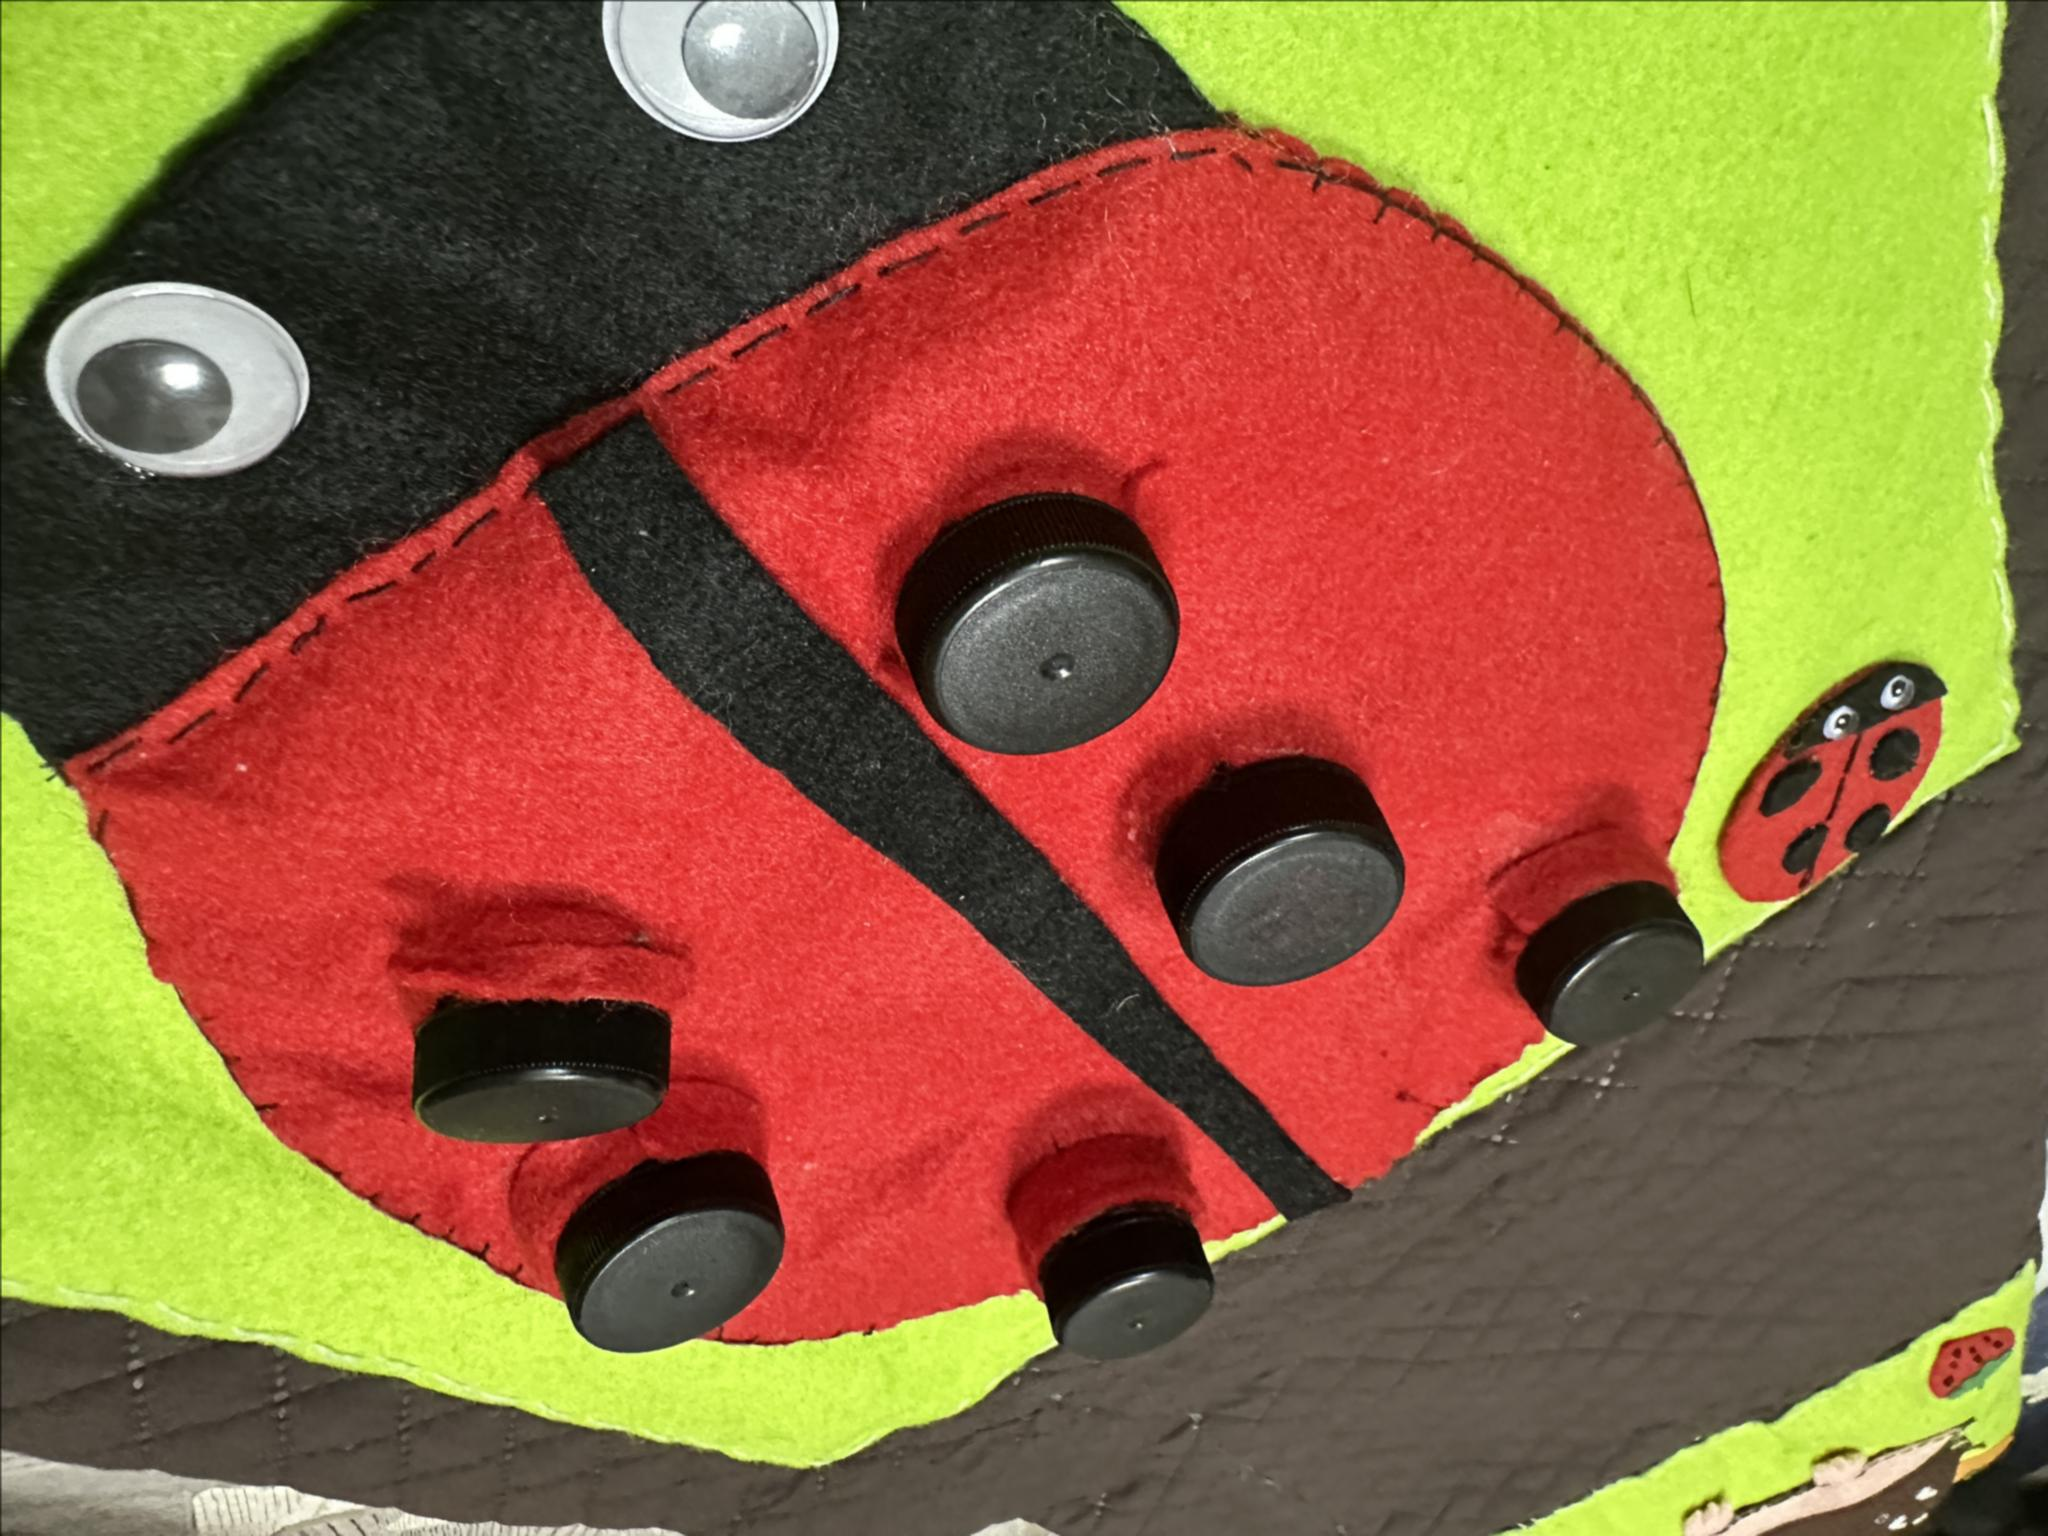cap_ok: (863, 431, 1198, 766), (503, 1107, 813, 1363), (1135, 741, 1421, 1008), (405, 886, 681, 1147), (985, 1097, 1232, 1373), (1472, 821, 1713, 1047)
